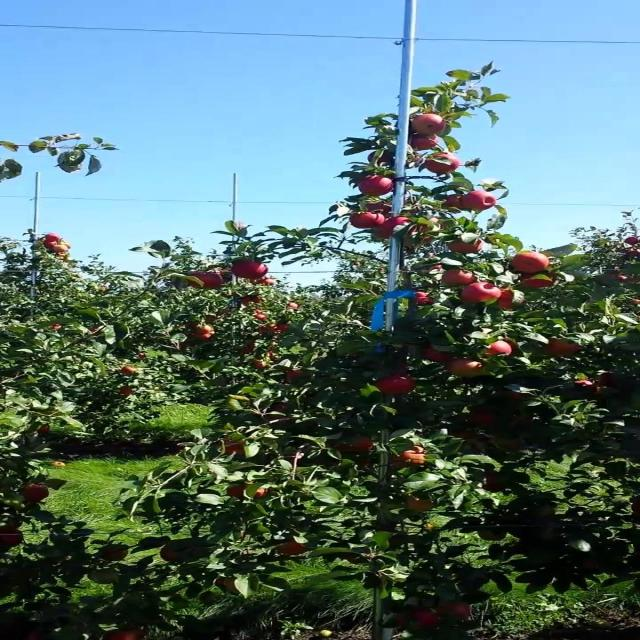apple: (454, 280, 498, 304), (376, 376, 420, 396), (511, 252, 553, 272), (461, 284, 500, 304), (447, 360, 487, 379), (333, 436, 377, 453), (461, 192, 498, 212), (390, 448, 427, 468), (234, 260, 270, 280), (426, 156, 462, 176), (376, 216, 412, 236), (376, 220, 412, 240), (227, 484, 270, 500), (362, 176, 396, 196), (412, 116, 448, 134), (348, 212, 384, 230), (191, 272, 226, 290), (440, 604, 476, 621), (376, 220, 405, 240), (547, 340, 583, 356), (20, 484, 50, 503), (447, 240, 484, 255), (497, 292, 526, 311), (440, 272, 476, 287), (276, 540, 309, 556), (404, 496, 436, 512), (262, 408, 292, 425), (106, 628, 148, 640), (412, 136, 441, 152), (426, 348, 455, 364), (412, 612, 441, 628), (575, 380, 604, 396), (468, 412, 498, 427), (483, 472, 505, 492), (490, 340, 517, 356), (419, 220, 446, 234), (525, 276, 556, 288), (269, 404, 292, 420), (596, 372, 620, 387), (92, 572, 119, 584), (419, 220, 446, 232), (227, 440, 247, 456), (497, 440, 526, 451), (284, 372, 311, 383), (106, 548, 128, 561), (6, 532, 25, 547), (163, 548, 181, 563), (369, 204, 393, 215), (191, 328, 213, 340), (476, 532, 505, 541), (419, 292, 436, 307), (454, 432, 478, 442), (397, 612, 411, 628), (447, 196, 464, 209), (376, 152, 393, 164), (504, 392, 526, 401), (220, 580, 238, 591), (419, 236, 436, 245), (6, 524, 21, 533), (582, 560, 597, 569), (28, 632, 44, 640), (412, 156, 425, 164), (433, 264, 446, 271), (42, 424, 52, 432)
